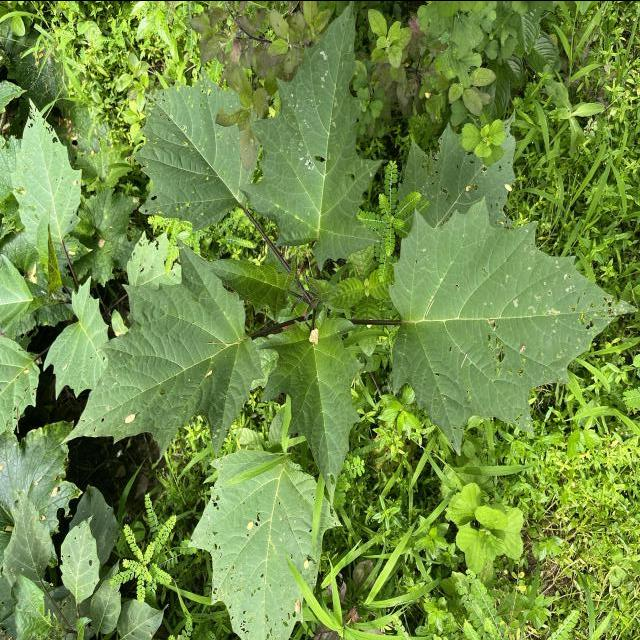Datura metal linn: (384, 191, 640, 459), (58, 232, 268, 460), (235, 0, 385, 274), (185, 446, 345, 640), (128, 62, 264, 236), (257, 298, 366, 511), (8, 95, 82, 244), (195, 253, 298, 325), (59, 512, 101, 606), (32, 200, 64, 301)
